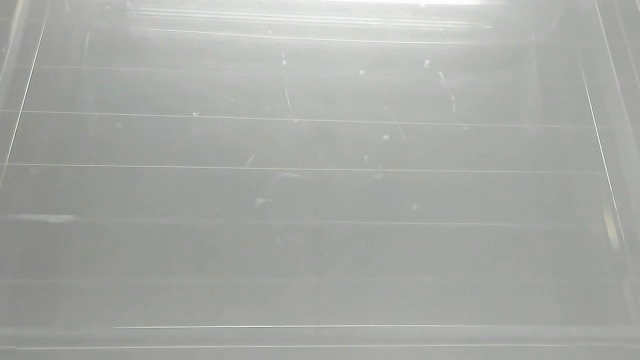alpha: (3, 208, 75, 228)
